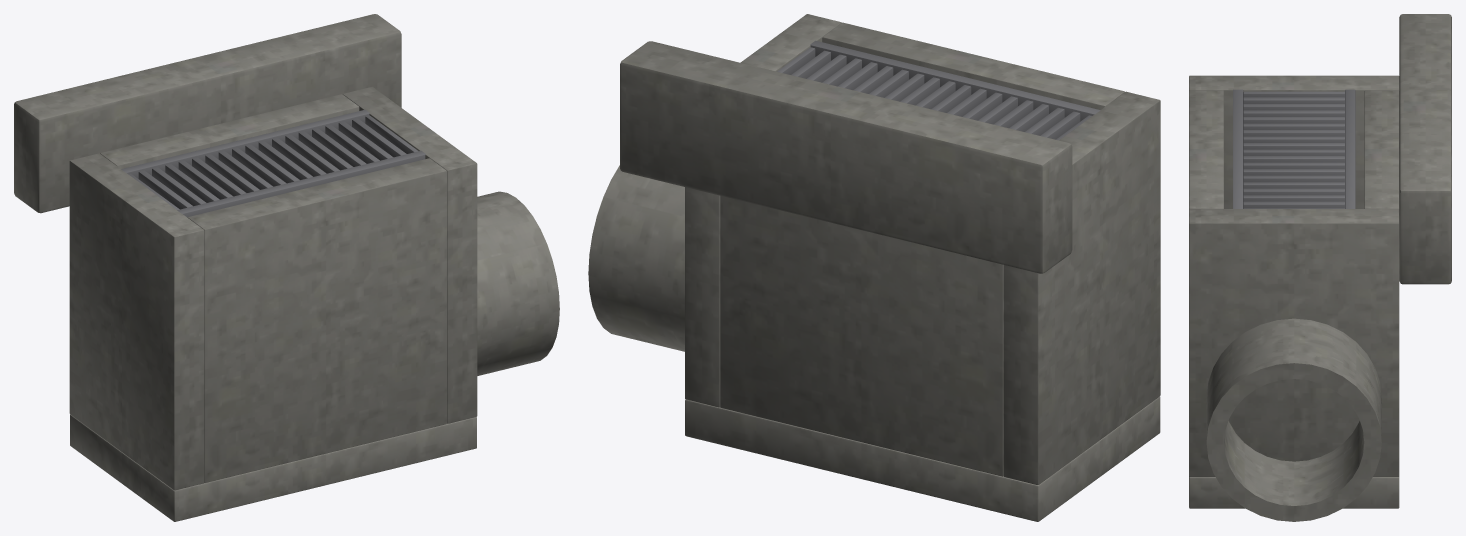
Rendered from HID-DRN-005_lod1.glb.
3 views of the same model, side by side, from view 1: azimuth 30°, elevation 25°; view 2: azimuth 150°, elevation 25°; view 3: azimuth 270°, elevation 25° (orthographic). The views are drawn at different scales.
Parts seen in each view (by area): view 1: HID-DRN-005_py-1, HID-DRN-005_px-1, HID-DRN-005_guia, HID-DRN-005_fundo, HID-DRN-005_saida, HID-DRN-005_px1, HID-DRN-005_py1, HID-DRN-005_g_quadro_b, HID-DRN-005_g_quadro_a, HID-DRN-005_g_barra5, HID-DRN-005_g_barra11, HID-DRN-005_g_barra14 (+14 smaller); view 2: HID-DRN-005_guia, HID-DRN-005_py1, HID-DRN-005_px-1, HID-DRN-005_fundo, HID-DRN-005_saida, HID-DRN-005_px1, HID-DRN-005_py-1, HID-DRN-005_g_quadro_b; view 3: HID-DRN-005_px1, HID-DRN-005_saida, HID-DRN-005_guia, HID-DRN-005_px-1, HID-DRN-005_py1, HID-DRN-005_py-1, HID-DRN-005_fundo, HID-DRN-005_g_quadro_a, HID-DRN-005_g_quadro_b, HID-DRN-005_g_barra14, HID-DRN-005_g_barra16, HID-DRN-005_g_barra18 (+15 smaller).
Boxes of the visible parts, bbox=[...] form: HID-DRN-005_py-1: bbox=[187, 158, 446, 482]; HID-DRN-005_px-1: bbox=[69, 153, 204, 490]; HID-DRN-005_guia: bbox=[14, 14, 401, 213]; HID-DRN-005_fundo: bbox=[70, 414, 476, 521]; HID-DRN-005_saida: bbox=[477, 191, 559, 375]; HID-DRN-005_px1: bbox=[343, 87, 477, 423]; HID-DRN-005_py1: bbox=[100, 94, 359, 168]; HID-DRN-005_g_quadro_b: bbox=[177, 150, 425, 217]; HID-DRN-005_g_quadro_a: bbox=[121, 109, 369, 178]; HID-DRN-005_g_barra5: bbox=[178, 160, 232, 199]; HID-DRN-005_g_barra11: bbox=[258, 141, 312, 179]; HID-DRN-005_g_barra14: bbox=[298, 131, 353, 170]; HID-DRN-005_guia: bbox=[620, 41, 1072, 273]; HID-DRN-005_py1: bbox=[720, 195, 1003, 476]; HID-DRN-005_px-1: bbox=[1003, 91, 1160, 484]; HID-DRN-005_fundo: bbox=[685, 396, 1160, 521]; HID-DRN-005_saida: bbox=[588, 165, 684, 351]; HID-DRN-005_px1: bbox=[685, 14, 841, 407]; HID-DRN-005_py-1: bbox=[822, 22, 1124, 109]; HID-DRN-005_g_quadro_b: bbox=[810, 40, 1100, 121]; HID-DRN-005_px1: bbox=[1189, 209, 1399, 476]; HID-DRN-005_saida: bbox=[1206, 318, 1381, 521]; HID-DRN-005_guia: bbox=[1399, 14, 1451, 284]; HID-DRN-005_px-1: bbox=[1189, 75, 1399, 208]; HID-DRN-005_py1: bbox=[1364, 90, 1399, 208]; HID-DRN-005_py-1: bbox=[1189, 90, 1223, 209]; HID-DRN-005_fundo: bbox=[1189, 476, 1399, 508]; HID-DRN-005_g_quadro_a: bbox=[1345, 89, 1355, 208]; HID-DRN-005_g_quadro_b: bbox=[1233, 89, 1243, 208]; HID-DRN-005_g_barra14: bbox=[1243, 175, 1344, 182]; HID-DRN-005_g_barra16: bbox=[1243, 188, 1344, 195]; HID-DRN-005_g_barra18: bbox=[1243, 201, 1344, 208].
Size of the model in its own units: 1.4 by 1.05 by 0.75.
2 materials, 1 textured.
